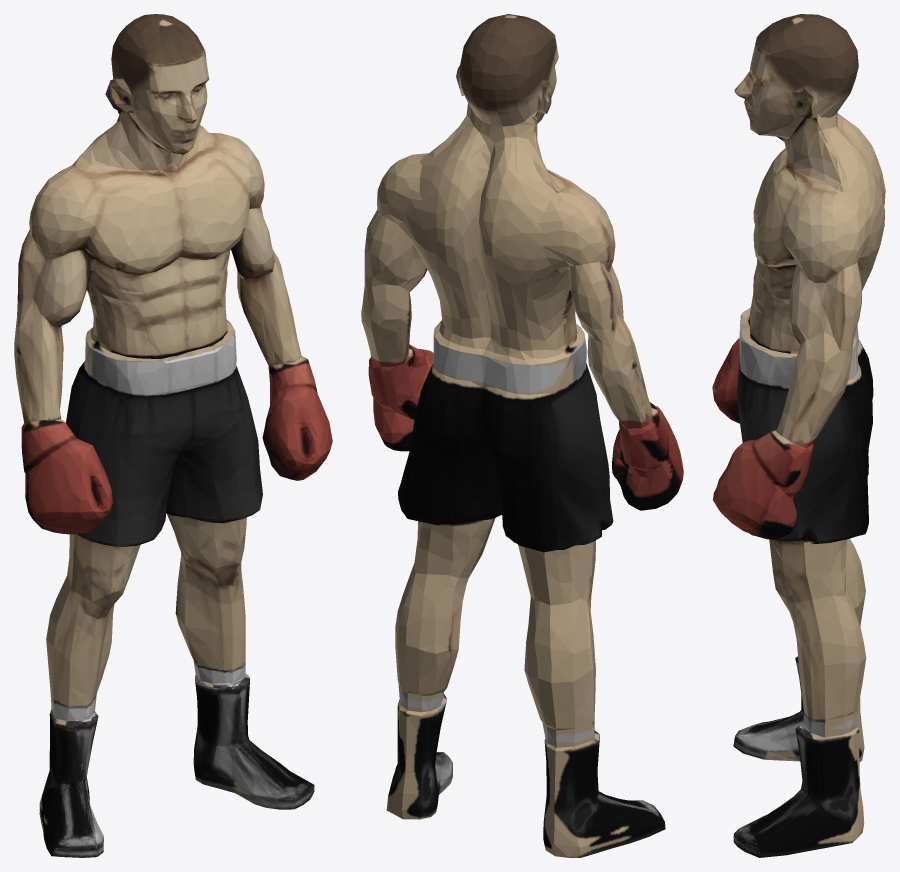
Rendered from boxer_base_m.glb.
3 renders of one model, left to right at view 1: azimuth 30°, elevation 25°; view 2: azimuth 150°, elevation 25°; view 3: azimuth 270°, elevation 25°, orthographic. The views are drawn at different scales.
Parts seen in each view (by area): view 1: world; view 2: world; view 3: world.
Boxes of the visible parts, x1,y1,x2,y2 form: world: (14, 14, 332, 857); world: (361, 14, 683, 857); world: (712, 14, 885, 857).
Size of the model in its own units: 0.2766 by 0.6963 by 0.1404.
Materials: 1 (1 with a texture image).
